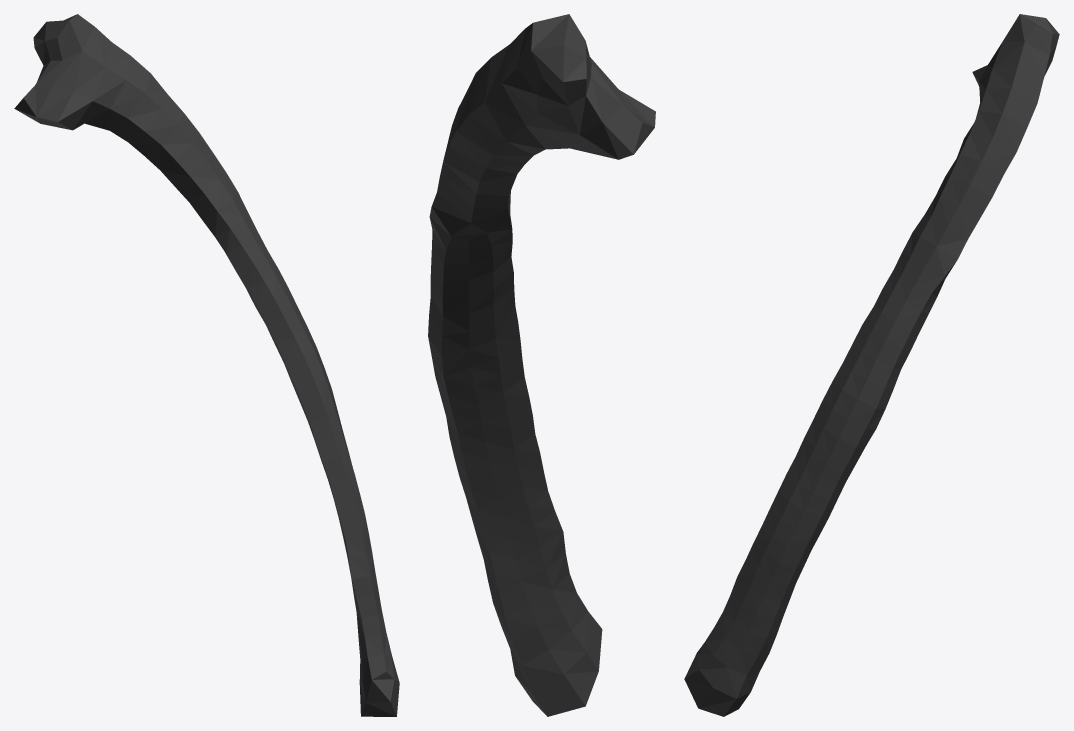
Rendered from Rib_2.glb.
3 renders of one model, left to right at view 1: azimuth 30°, elevation 25°; view 2: azimuth 150°, elevation 25°; view 3: azimuth 270°, elevation 25°, orthographic. The views are drawn at different scales.
Parts seen in each view (by area): view 1: Rib_2; view 2: Rib_2; view 3: Rib_2.
Part boxes in pixels (x1,y1,x2,y2): Rib_2: (14,14,399,716); Rib_2: (428,14,655,716); Rib_2: (684,14,1059,716).
Size of the model in its own units: 2.14 by 5.55 by 3.05.
Materials: 1 (1 with a texture image).
